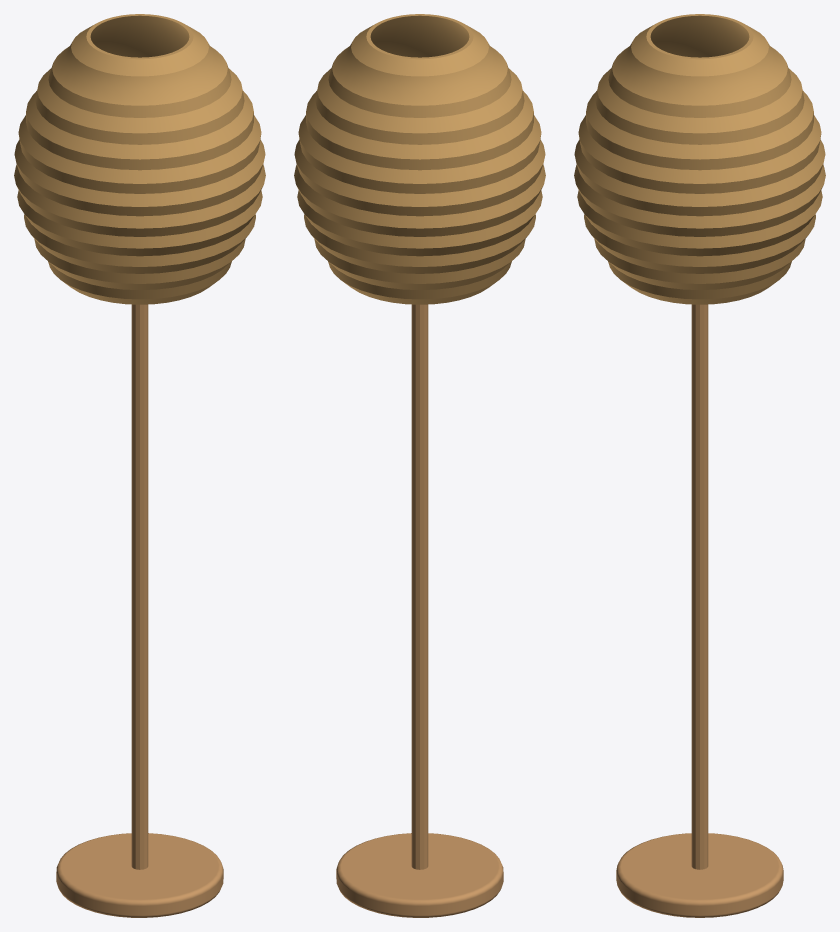
File: floor_lamp_rattan.glb
3 views of the same model, side by side, from view 1: azimuth 30°, elevation 25°; view 2: azimuth 150°, elevation 25°; view 3: azimuth 270°, elevation 25° (orthographic).
Parts seen in each view (by area): view 1: floor_lamp_rattan; view 2: floor_lamp_rattan; view 3: floor_lamp_rattan.
Part boxes in pixels (x1,y1,x2,y2): floor_lamp_rattan: [14, 14, 265, 917]; floor_lamp_rattan: [294, 14, 545, 917]; floor_lamp_rattan: [574, 14, 825, 917].
Bounding box in the file's own units: 0.35 × 1.3 × 0.35.
